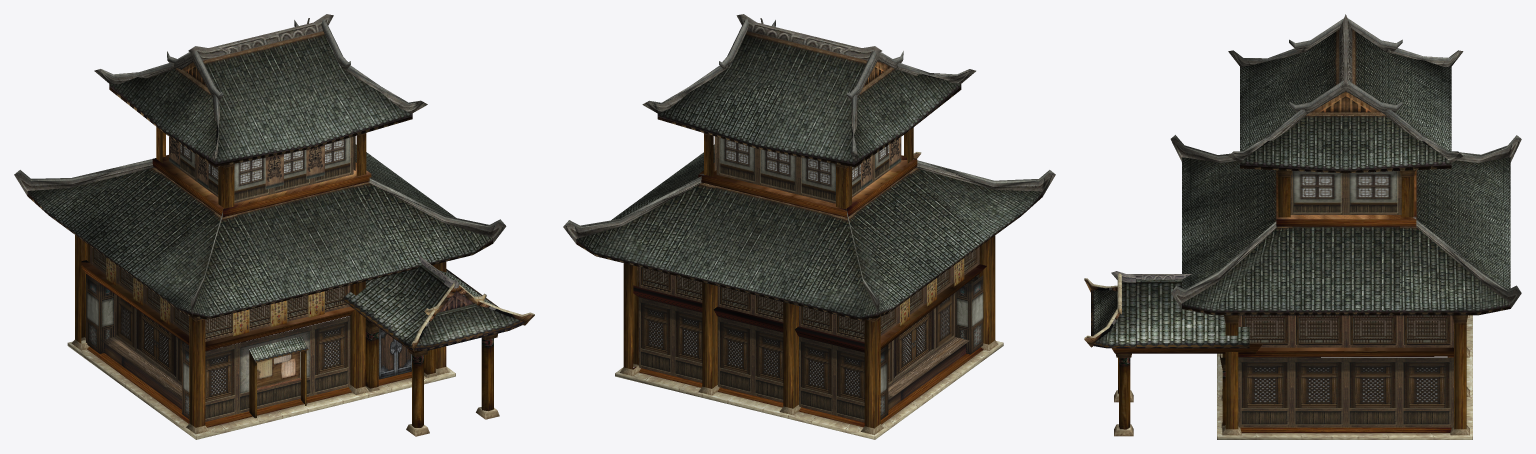
The model's file is b1-011-workhouse_lod_01.fbx.
3 views of the same model, side by side, from view 1: azimuth 30°, elevation 25°; view 2: azimuth 150°, elevation 25°; view 3: azimuth 270°, elevation 25° (orthographic).
Parts seen in each view (by area): view 1: b1-011-workhouse-01, b1-011-workhouse-02, b1-011-workhouse-03; view 2: b1-011-workhouse-01, b1-011-workhouse-02, b1-011-workhouse-03; view 3: b1-011-workhouse-01, b1-011-workhouse-02, b1-011-workhouse-03.
Part boxes in pixels (x1,y1,x2,y2): b1-011-workhouse-01: (14, 14, 506, 436); b1-011-workhouse-02: (86, 136, 411, 421); b1-011-workhouse-03: (67, 155, 534, 439); b1-011-workhouse-01: (563, 14, 1055, 434); b1-011-workhouse-02: (637, 136, 983, 422); b1-011-workhouse-03: (615, 152, 1003, 439); b1-011-workhouse-01: (1114, 14, 1521, 436); b1-011-workhouse-02: (1238, 171, 1453, 427); b1-011-workhouse-03: (1084, 170, 1472, 439).
Bounding box in the file's own units: 13.51 × 13.51 × 16.22.
